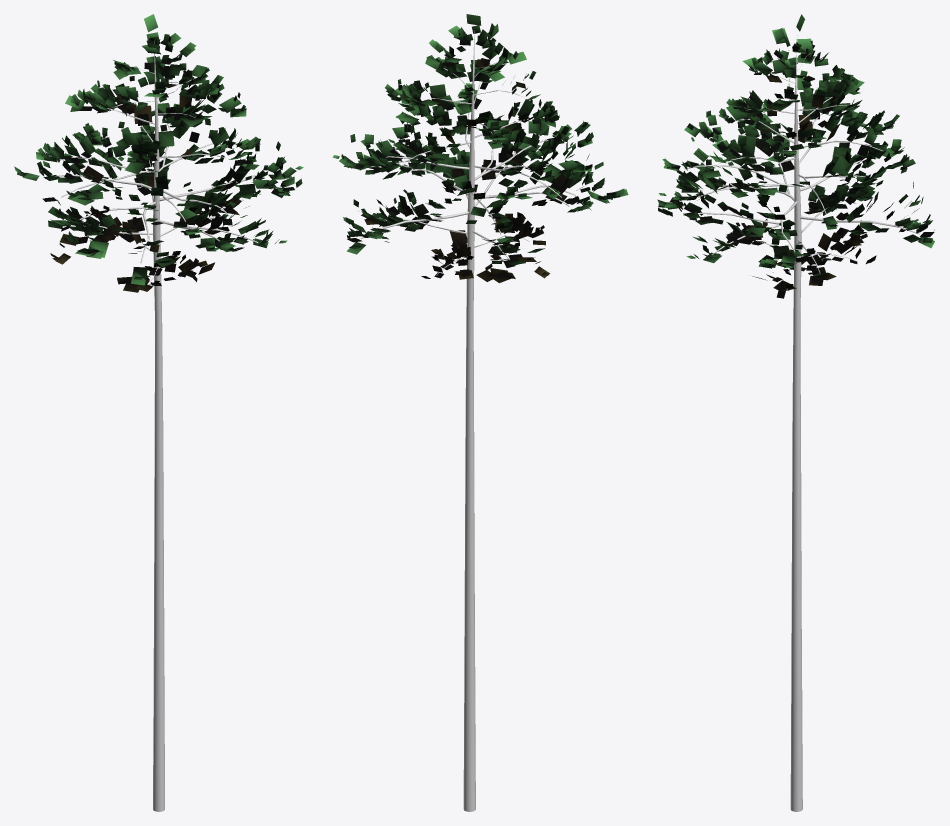
File: PW3DVT_HeroPine_2_lod2.fbx
3 renders of one model, left to right at view 1: azimuth 30°, elevation 25°; view 2: azimuth 150°, elevation 25°; view 3: azimuth 270°, elevation 25°, orthographic.
Parts seen in each view (by area): view 1: leaves.005, tree.004, tree.005; view 2: leaves.005, tree.004, tree.005; view 3: leaves.005, tree.004, tree.005.
Boxes of the visible parts, left/top/right/bottom form: leaves.005: left=14, top=14, right=303, bottom=292; tree.004: left=153, top=40, right=164, bottom=811; tree.005: left=45, top=64, right=257, bottom=282; leaves.005: left=332, top=14, right=628, bottom=283; tree.004: left=463, top=30, right=475, bottom=811; tree.005: left=361, top=60, right=575, bottom=275; leaves.005: left=657, top=14, right=934, bottom=298; tree.004: left=790, top=35, right=802, bottom=811; tree.005: left=683, top=53, right=919, bottom=273.
Size of the model in its own units: 7.29 by 21.19 by 6.78.
